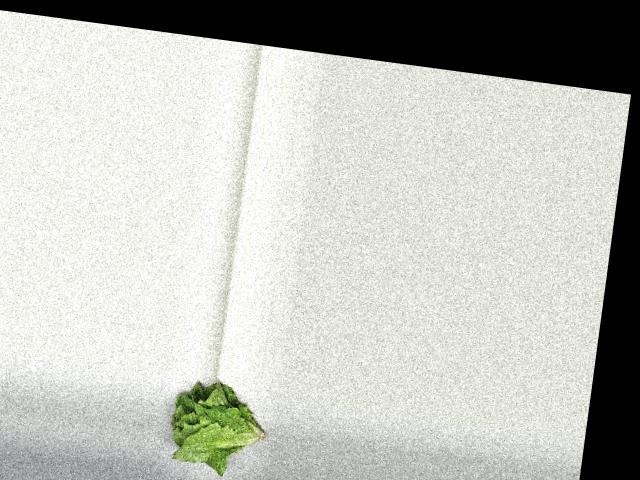lettuce: (160, 370, 279, 480)
